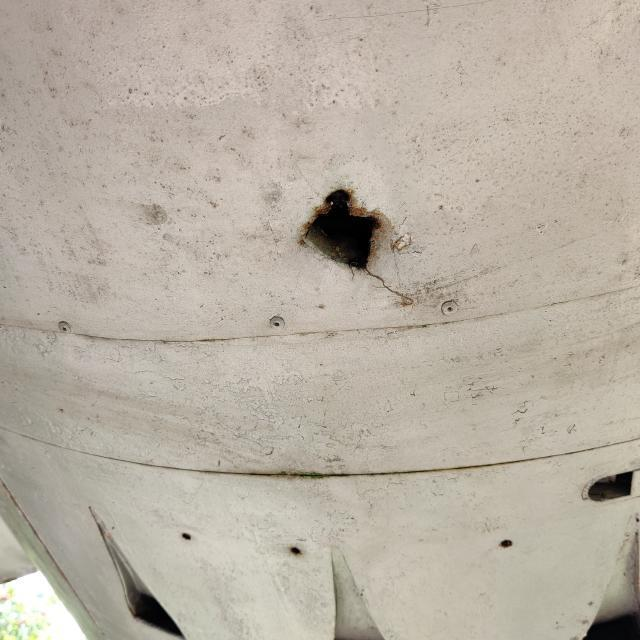Crack: (302, 189, 414, 306)
